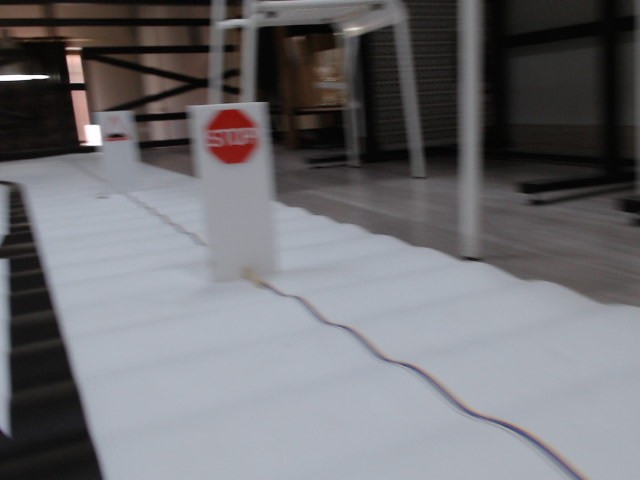Nerov: (103, 114, 132, 145)
Stop: (206, 109, 258, 164)
